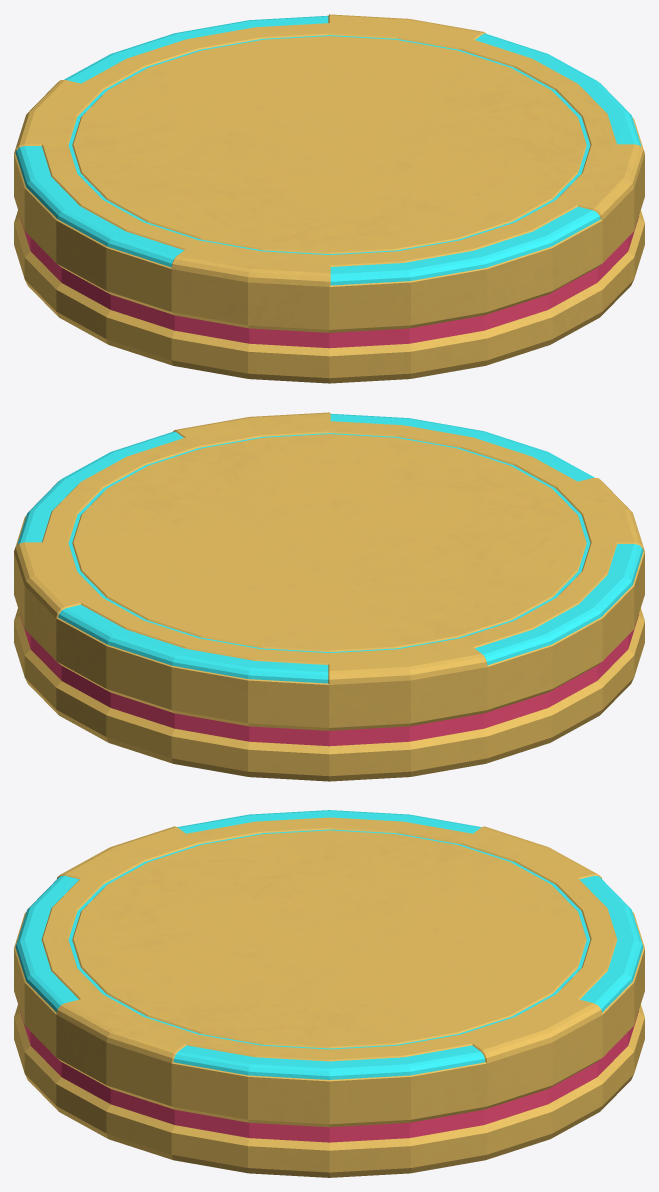
Rendered from MoveA.fbx.
3 renders of one model, top to bottom at view 1: azimuth 30°, elevation 25°; view 2: azimuth 150°, elevation 25°; view 3: azimuth 270°, elevation 25°, orthographic.
Parts seen in each view (by area): view 1: SM_VA_MoveA.mo; view 2: SM_VA_MoveA.mo; view 3: SM_VA_MoveA.mo.
Boxes of the visible parts, <box> form: SM_VA_MoveA.mo: <box>14,14,644,383</box>; SM_VA_MoveA.mo: <box>14,412,644,781</box>; SM_VA_MoveA.mo: <box>14,810,644,1177</box>.
Size of the model in its own units: 5.2 by 1 by 5.2.
